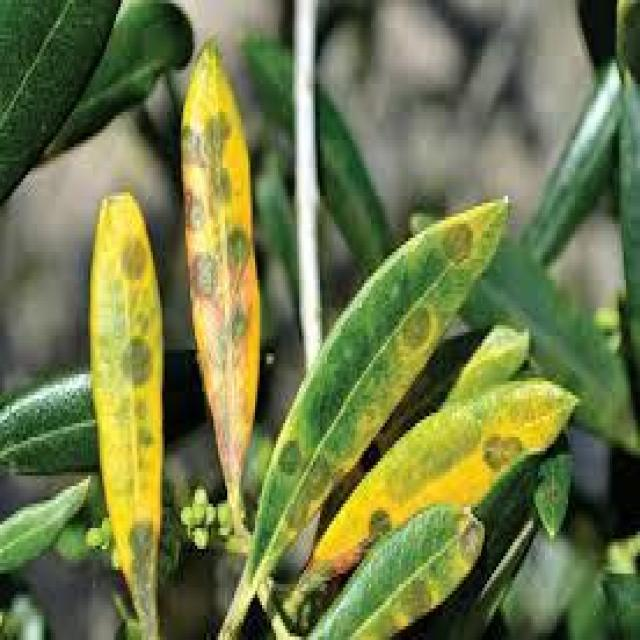Peacock Eye: (257, 199, 508, 549), (297, 378, 577, 588), (183, 42, 260, 490), (90, 192, 162, 637), (274, 507, 482, 637)
